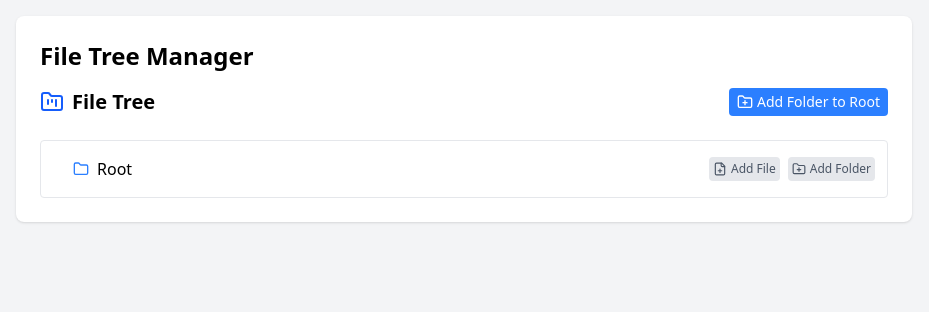
Scenario: Delete Operations › should delete a file immediately
Click the button "Add Folder to Root": (808, 102) [729,88,888,116]
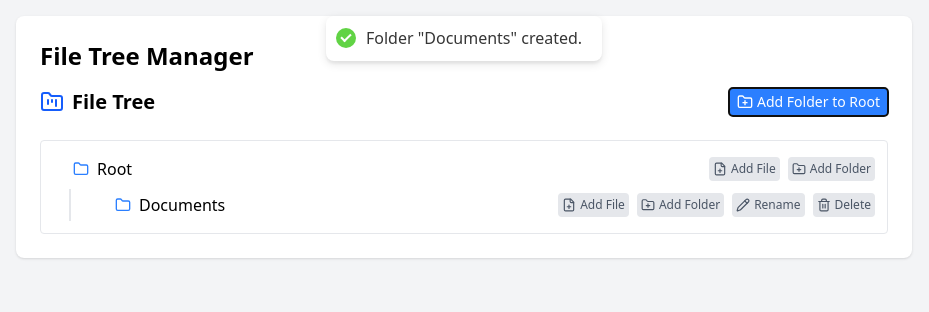
Click the 2nd button "Add File": (594, 205) [558,193,629,217]
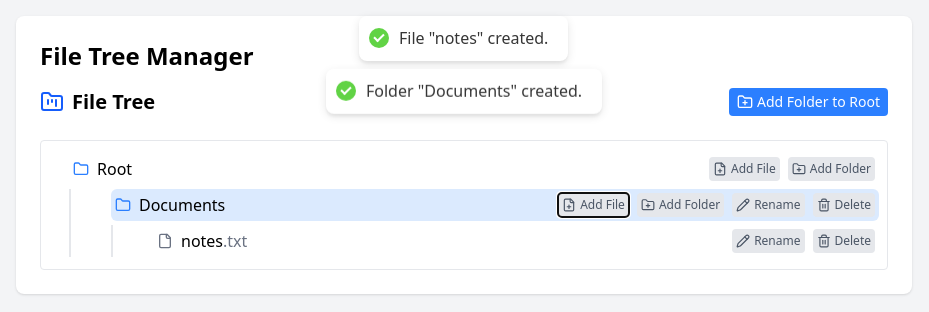
Click the 2nd button "Delete": (844, 241) [812,229,875,253]
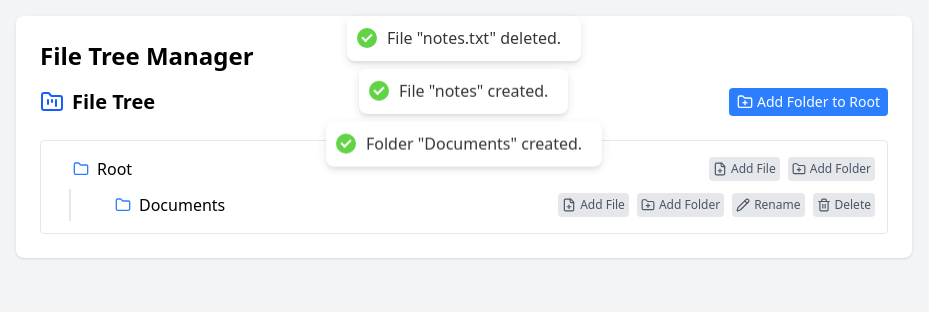
expect the text "File \"notes.txt\" deleted." is shown: met, box [387,28,561,49]
